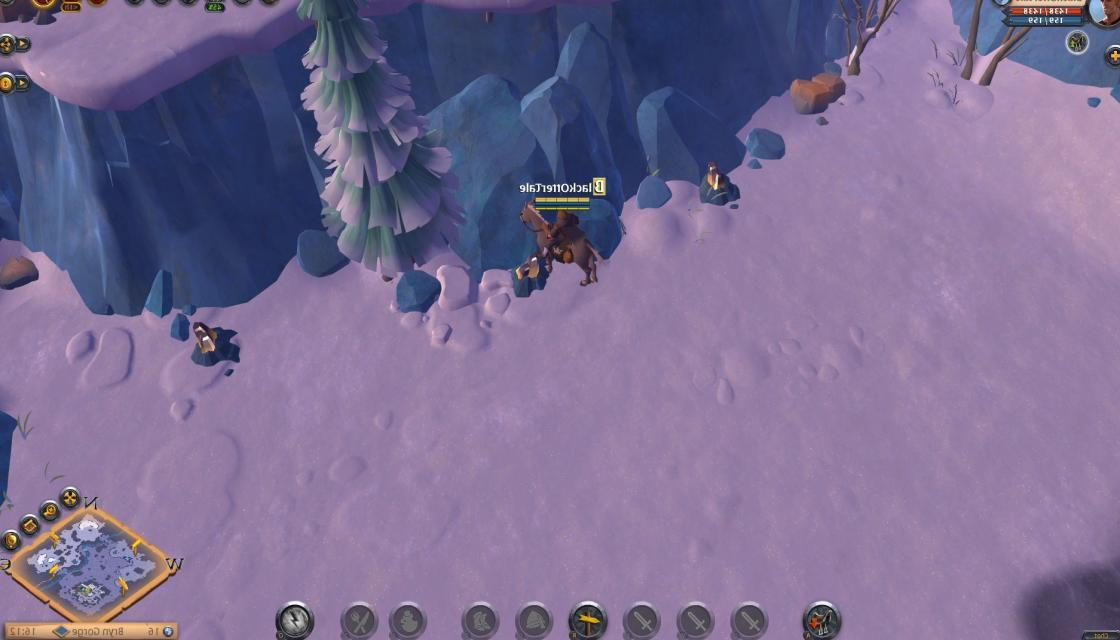copperore: (186, 318, 241, 368), (694, 160, 743, 210), (506, 252, 552, 298)
limestone: (786, 68, 852, 114), (0, 253, 44, 293)
